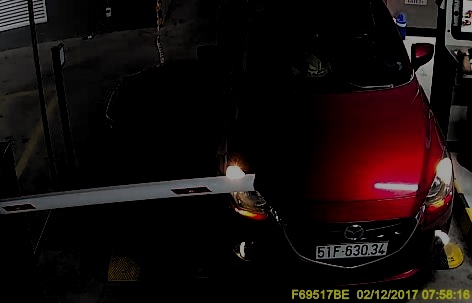plate: (314, 239, 387, 263)
